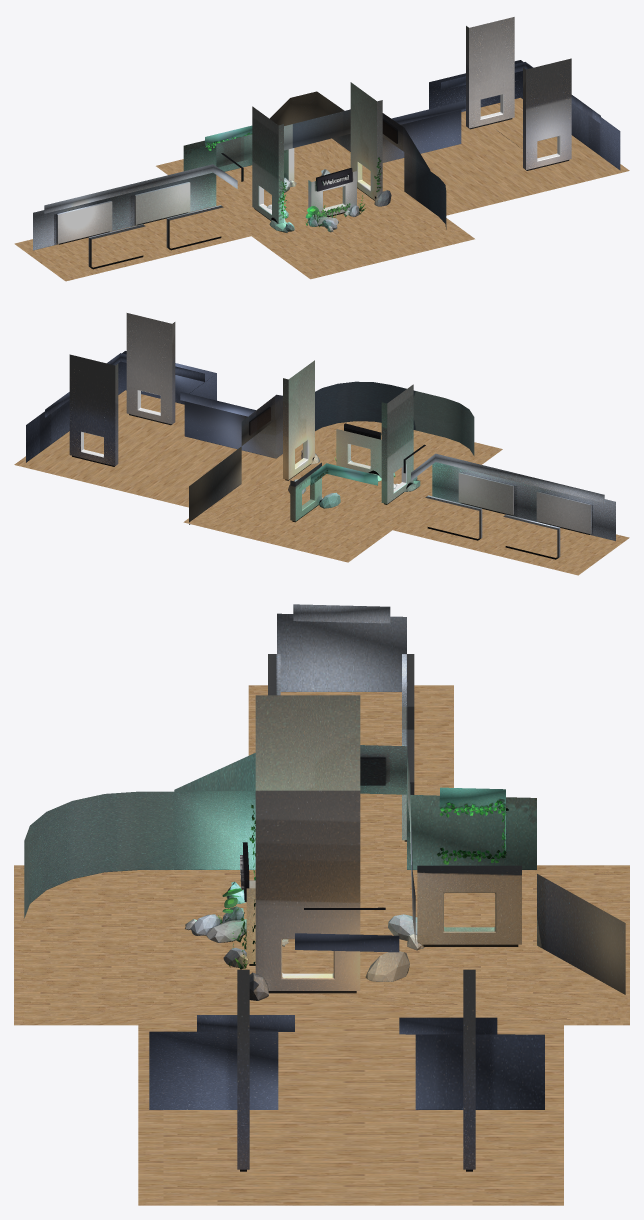
The model's file is xr_gallery.glb.
3 views of the same model, one above another, from view 1: azimuth 30°, elevation 25°; view 2: azimuth 150°, elevation 25°; view 3: azimuth 270°, elevation 25° (orthographic). The views are drawn at different scales.
Parts seen in each view (by area): view 1: Icosphere.001_15, Icosphere.000_24; view 2: Icosphere.001_15, Icosphere.000_24; view 3: Icosphere.000_24, Icosphere.001_15.
Boxes of the visible parts, bbox=[...] form: Icosphere.001_15: bbox=[33, 17, 620, 269]; Icosphere.000_24: bbox=[14, 97, 629, 281]; Icosphere.001_15: bbox=[26, 313, 615, 559]; Icosphere.000_24: bbox=[14, 390, 629, 575]; Icosphere.000_24: bbox=[14, 685, 629, 1205]; Icosphere.001_15: bbox=[24, 604, 625, 1171].
Size of the model in its own units: 65.06 by 13.08 by 32.55.
2 materials, 2 textured.
